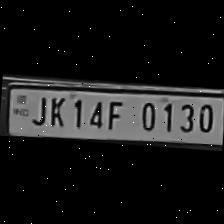0: (133, 96, 159, 132), (194, 100, 216, 133)
1: (66, 94, 86, 129), (156, 99, 176, 133)
3: (175, 99, 195, 134)
4: (83, 96, 105, 130)
F: (102, 96, 126, 130)
J: (28, 92, 48, 126)
K: (44, 93, 68, 129)
